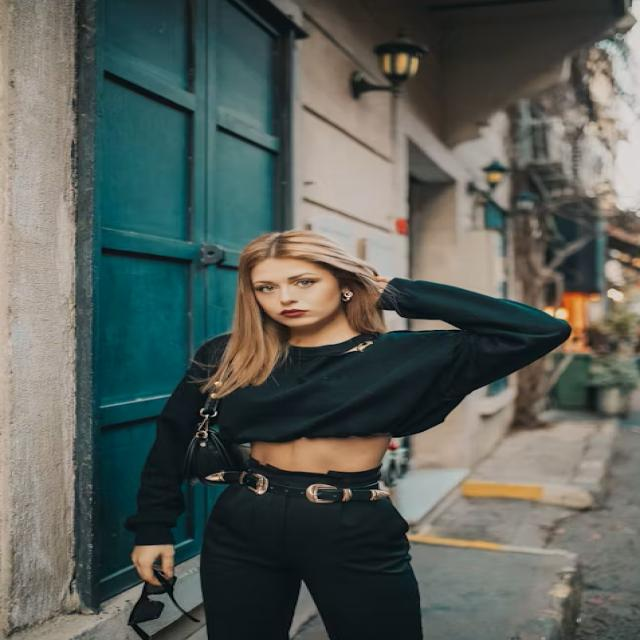Edited images: (111, 222, 585, 640)
